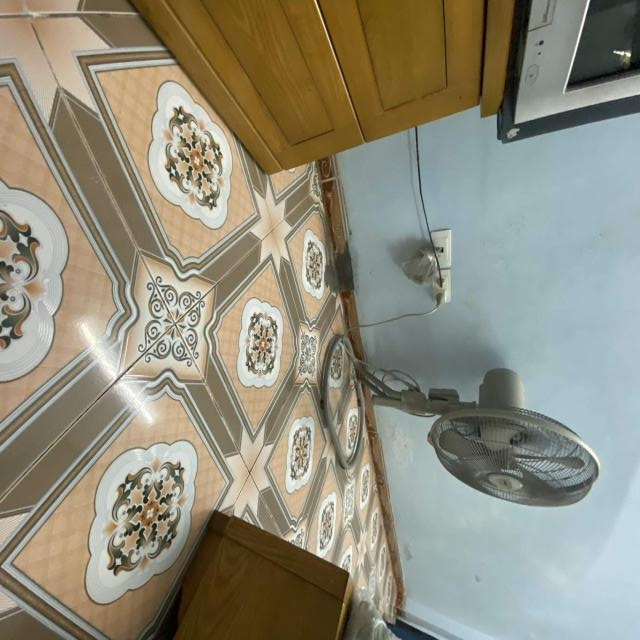outlet: (430, 228, 451, 268), (432, 269, 451, 304)
